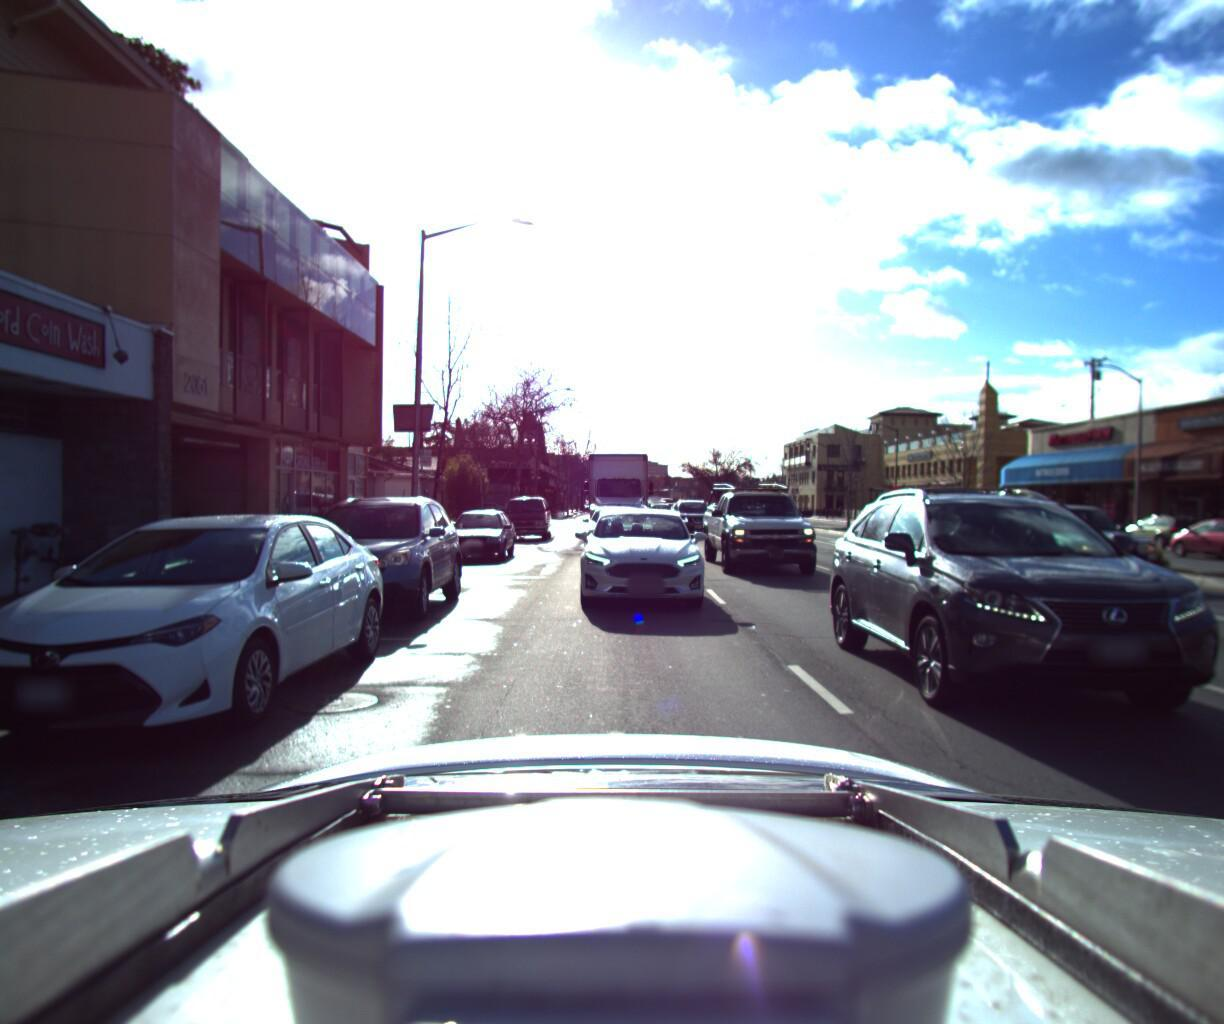car: (814, 461, 1224, 764), (252, 486, 468, 628), (976, 491, 1194, 585), (552, 498, 711, 621), (695, 470, 827, 577), (432, 501, 519, 558), (1113, 503, 1218, 550), (582, 498, 656, 559), (1149, 506, 1224, 558), (493, 488, 555, 537), (667, 493, 723, 532), (646, 496, 676, 518)
truck: (577, 444, 654, 538)
